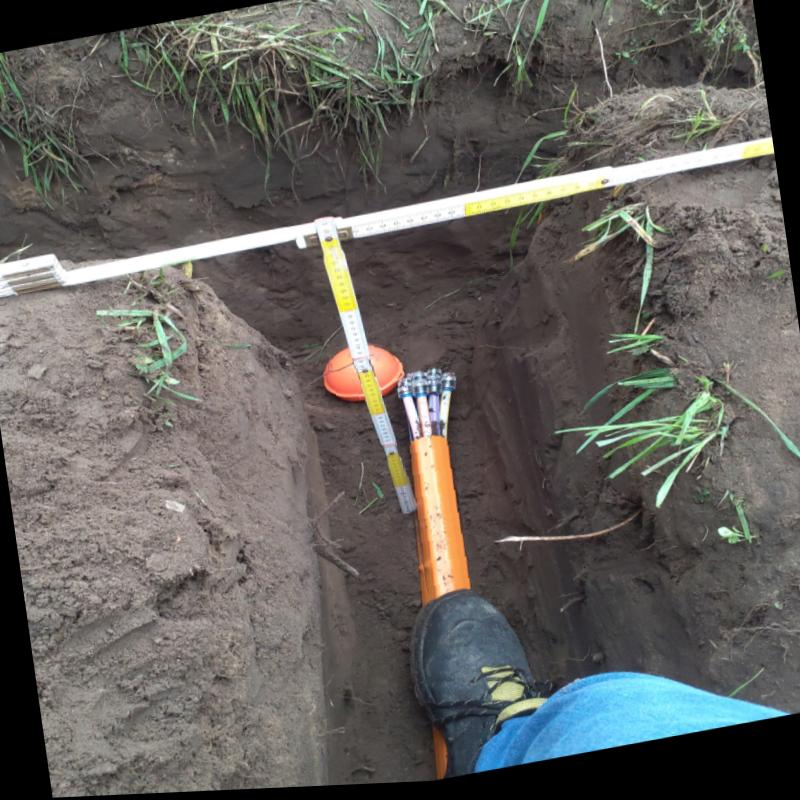Kugelmarker: (321, 345, 404, 402)
Orang-Speednetrohrchen: (419, 439, 468, 604)
